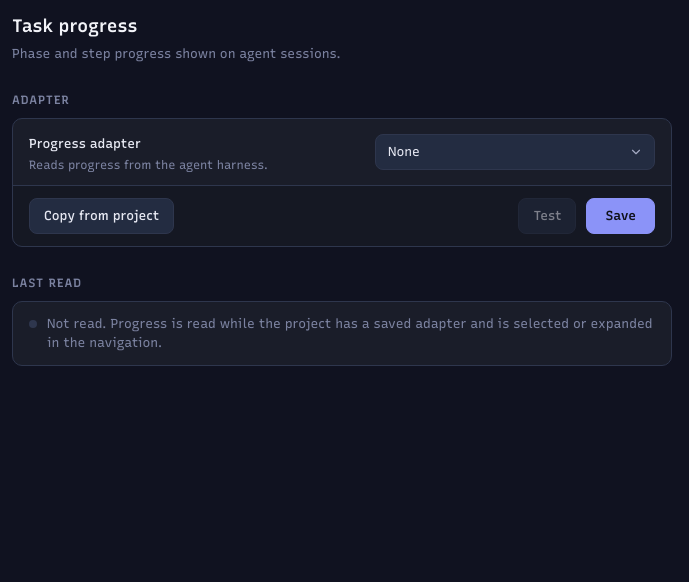
TaskProgressSettings › Save shows a validation error from main inline
Select "Example · example" in the dropdown with test id "settings-task-progress-adapter-select" at [515, 152], box x1=375 y1=134 x2=655 y2=170
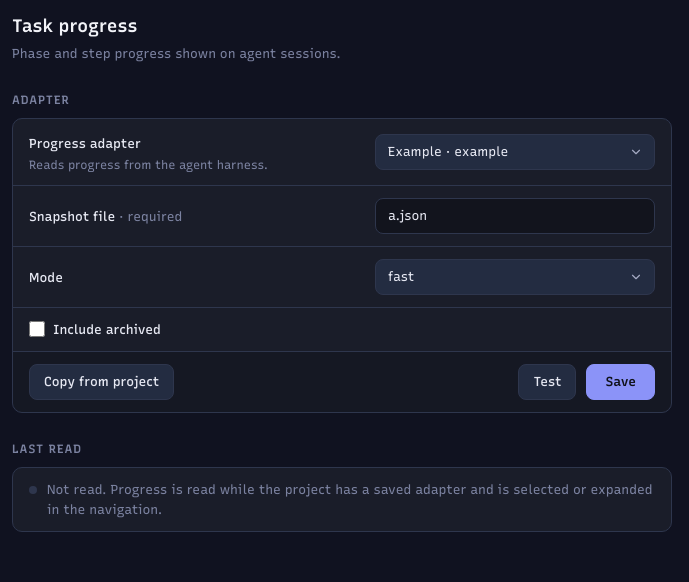
Clear the field labelled "Snapshot file · required" at [515, 216], box x1=375 y1=198 x2=655 y2=234
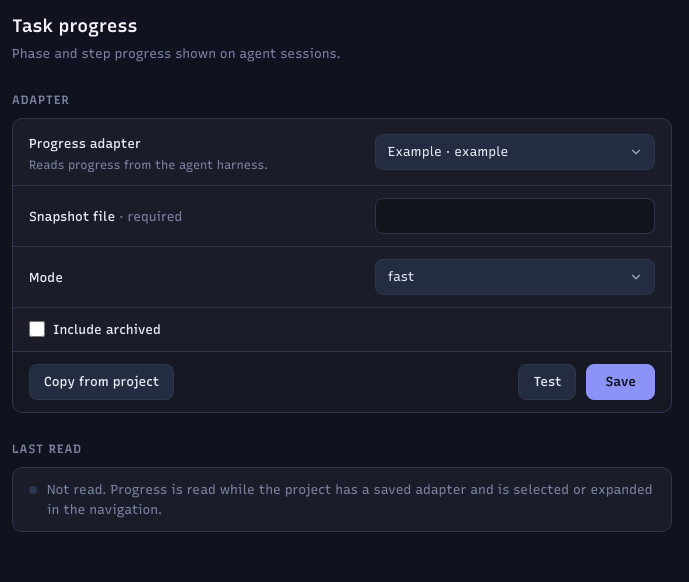
Click the button with test id "settings-task-progress-save".
click(621, 382)  # box x1=586 y1=364 x2=655 y2=400
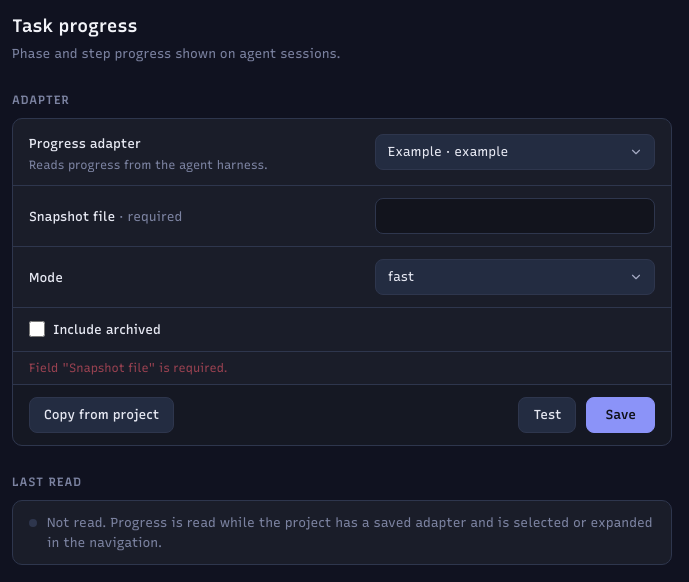
Expected: the message with test id "settings-task-progress-form-error" reads "Field \"Snapshot file\" is required.", x1=29 y1=361 x2=228 y2=375
